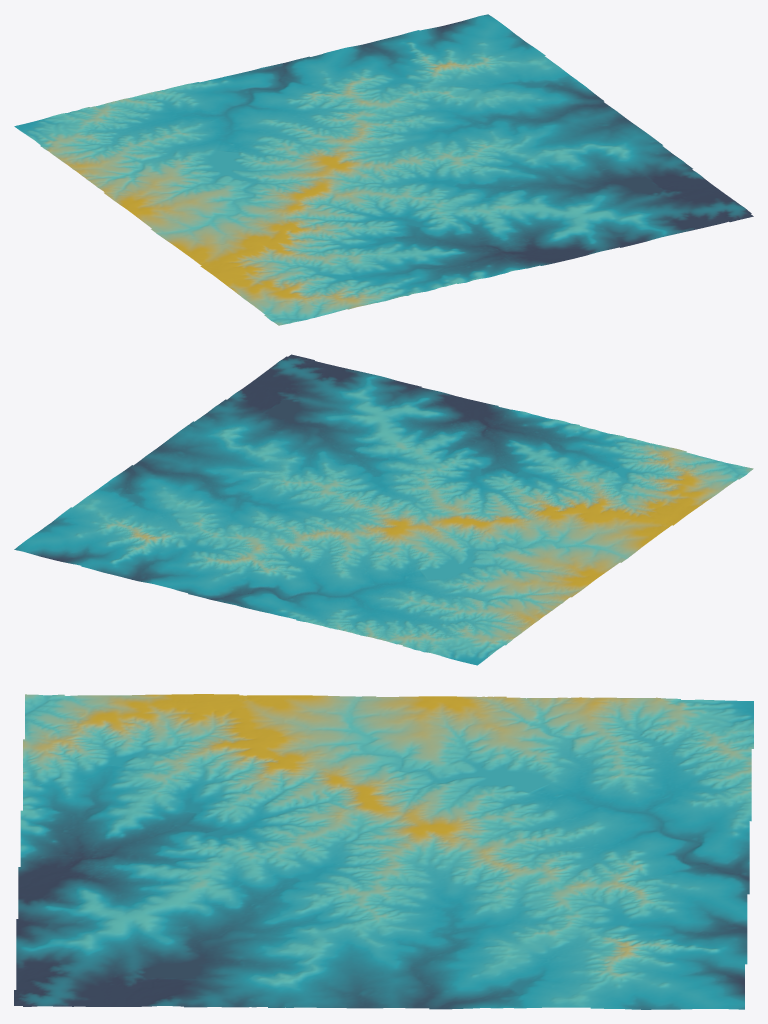
The model's file is terrain.glb.
3 renders of one model, top to bottom at view 1: azimuth 30°, elevation 25°; view 2: azimuth 150°, elevation 25°; view 3: azimuth 270°, elevation 25°, orthographic. The views are drawn at different scales.
Visible parts, largest first — view 1: terrain-chunk-0004, terrain-chunk-0001, terrain-chunk-0003, terrain-chunk-0000, terrain-chunk-0005, terrain-chunk-0006, terrain-chunk-0002, terrain-chunk-0007, terrain-chunk-0008; view 2: terrain-chunk-0004, terrain-chunk-0003, terrain-chunk-0001, terrain-chunk-0000, terrain-chunk-0007, terrain-chunk-0005, terrain-chunk-0006, terrain-chunk-0002, terrain-chunk-0008; view 3: terrain-chunk-0004, terrain-chunk-0001, terrain-chunk-0003, terrain-chunk-0000, terrain-chunk-0005, terrain-chunk-0007, terrain-chunk-0006, terrain-chunk-0002, terrain-chunk-0008.
Boxes of the visible parts, x1,y1,x2,y2 form: terrain-chunk-0004: [255, 86, 542, 207]; terrain-chunk-0001: [360, 163, 646, 282]; terrain-chunk-0003: [78, 131, 359, 249]; terrain-chunk-0000: [180, 207, 462, 325]; terrain-chunk-0005: [437, 59, 652, 163]; terrain-chunk-0006: [14, 83, 253, 172]; terrain-chunk-0002: [543, 137, 753, 241]; terrain-chunk-0007: [190, 41, 436, 130]; terrain-chunk-0008: [375, 14, 547, 85]; terrain-chunk-0004: [187, 455, 471, 575]; terrain-chunk-0003: [368, 498, 650, 616]; terrain-chunk-0001: [292, 380, 573, 498]; terrain-chunk-0000: [473, 424, 753, 540]; terrain-chunk-0007: [125, 531, 367, 621]; terrain-chunk-0005: [77, 429, 290, 531]; terrain-chunk-0006: [305, 576, 542, 665]; terrain-chunk-0002: [183, 354, 394, 454]; terrain-chunk-0008: [14, 504, 186, 577]; terrain-chunk-0004: [296, 813, 579, 935]; terrain-chunk-0001: [16, 814, 296, 936]; terrain-chunk-0003: [296, 695, 579, 815]; terrain-chunk-0000: [20, 694, 296, 816]; terrain-chunk-0005: [296, 933, 579, 1009]; terrain-chunk-0007: [579, 814, 751, 936]; terrain-chunk-0006: [579, 697, 753, 816]; terrain-chunk-0002: [14, 934, 296, 1007]; terrain-chunk-0008: [579, 934, 747, 1009].
Size of the model in its own units: 20600 by 155 by 20600.
